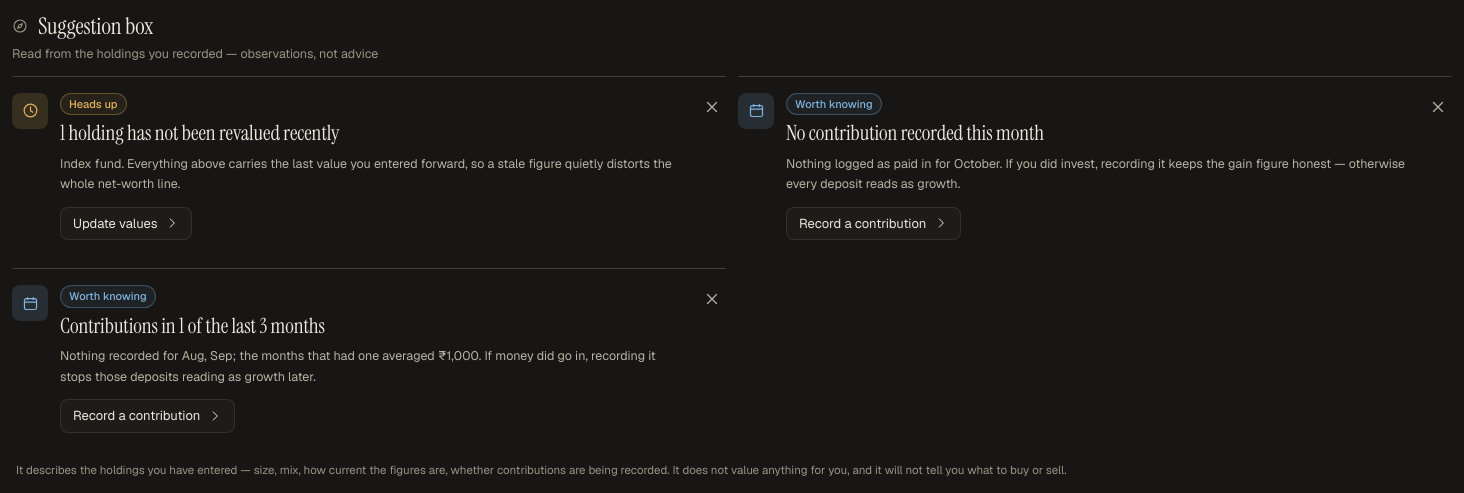
Test: InvestTips › dismisses by rule id, and can restore
The width and height of the screenshot is (1464, 493).
Step 1. Click the button named "Dismiss" in the row of "1 holding has not been revalued recently" → (712, 106), box [694,88,730,124]
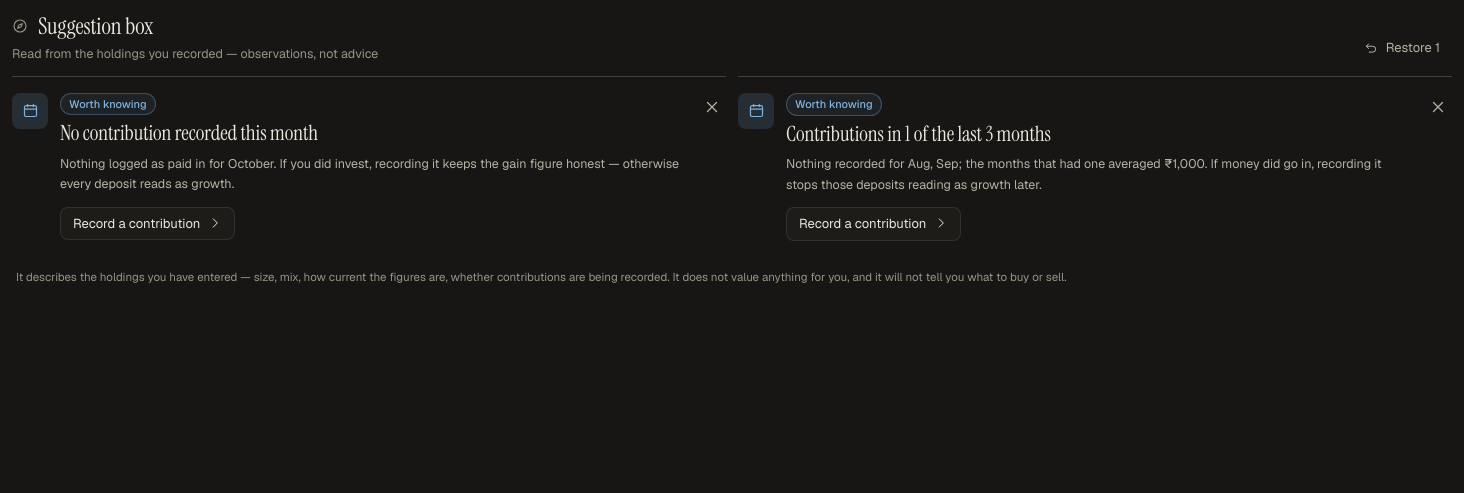
expect the heading "1 holding has not been revalued recently" is gone: met
Step 2. Click the button "Restore 1" → (1402, 48), box [1352,32,1452,64]
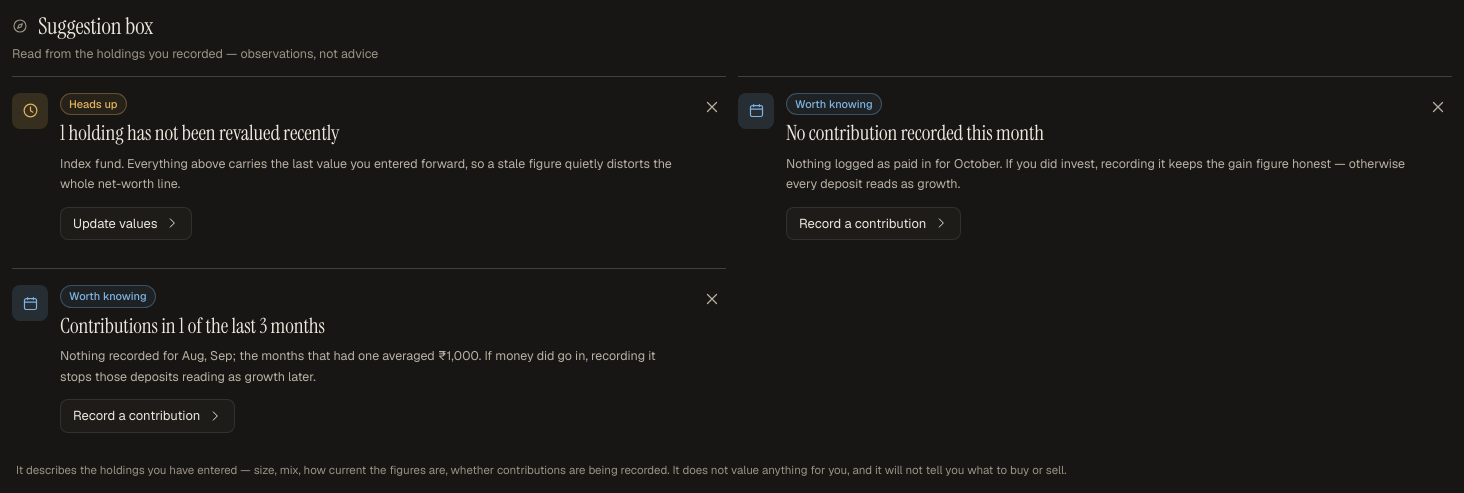
expect the heading "1 holding has not been revalued recently" is shown: met, box [60,119,339,147]
